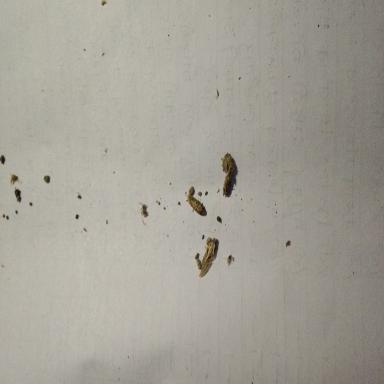pbw: (198, 237, 218, 278), (186, 194, 206, 216)
